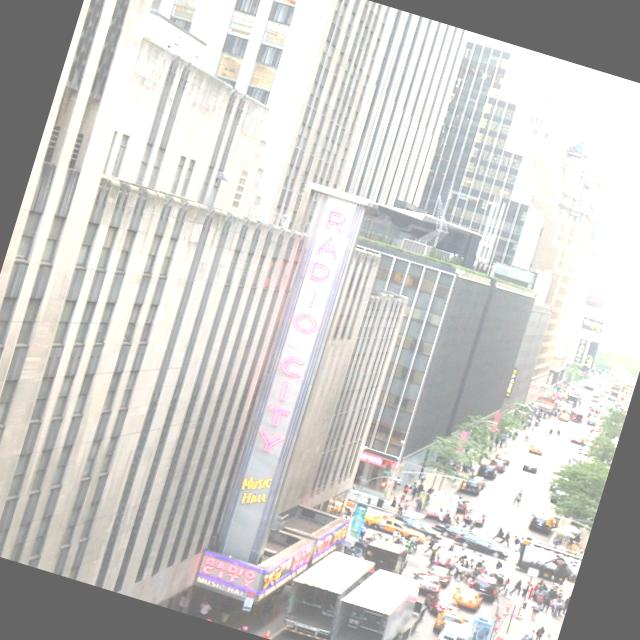Vehicle: (442, 388, 590, 566), (274, 539, 381, 640), (322, 559, 435, 640), (513, 533, 584, 586), (360, 507, 430, 545), (362, 536, 413, 576), (452, 531, 509, 561), (422, 488, 462, 526), (421, 590, 464, 620), (432, 606, 465, 640), (432, 616, 478, 640), (450, 584, 486, 612), (408, 570, 442, 597), (428, 564, 455, 585), (433, 545, 457, 568), (526, 442, 544, 456), (522, 459, 538, 474), (578, 439, 594, 452)
